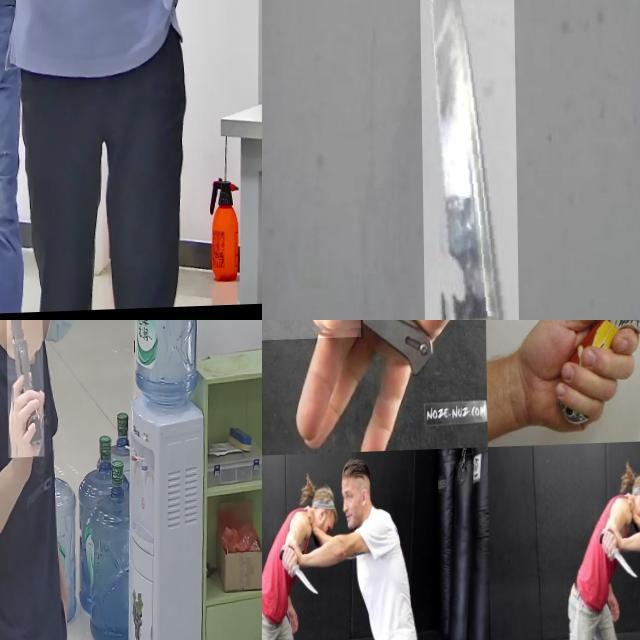-: (418, 0, 517, 320), (553, 320, 640, 435), (262, 320, 360, 397), (274, 546, 318, 601), (594, 532, 638, 586)
gun-knife-thesis - v11 Yolov5 augmented: (3, 0, 87, 67), (5, 320, 43, 460)
